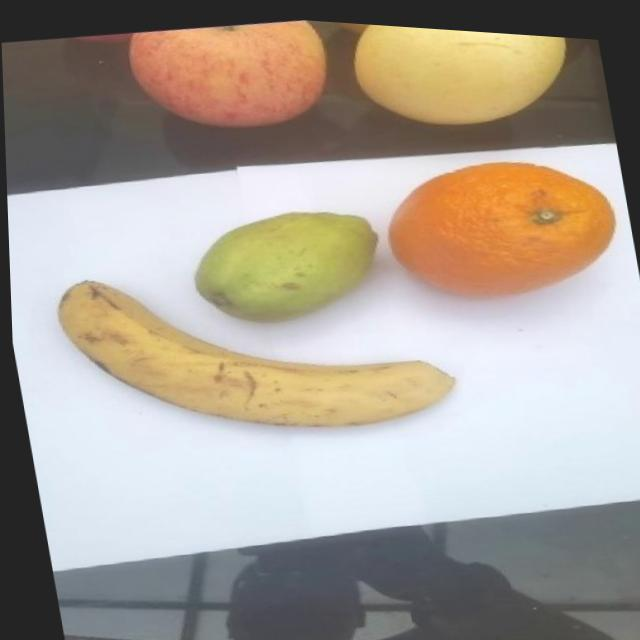Apple: (124, 6, 338, 144)
Banana: (49, 227, 461, 465)
Orange: (375, 132, 628, 310)
